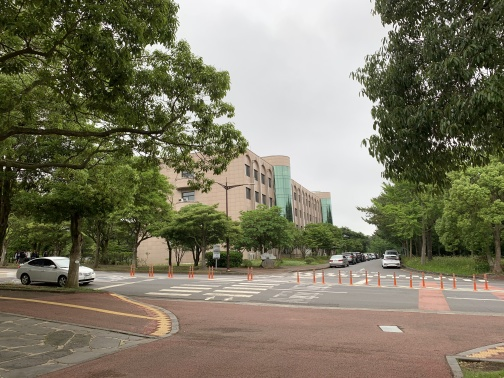Natural Science2: (142, 139, 343, 228)
